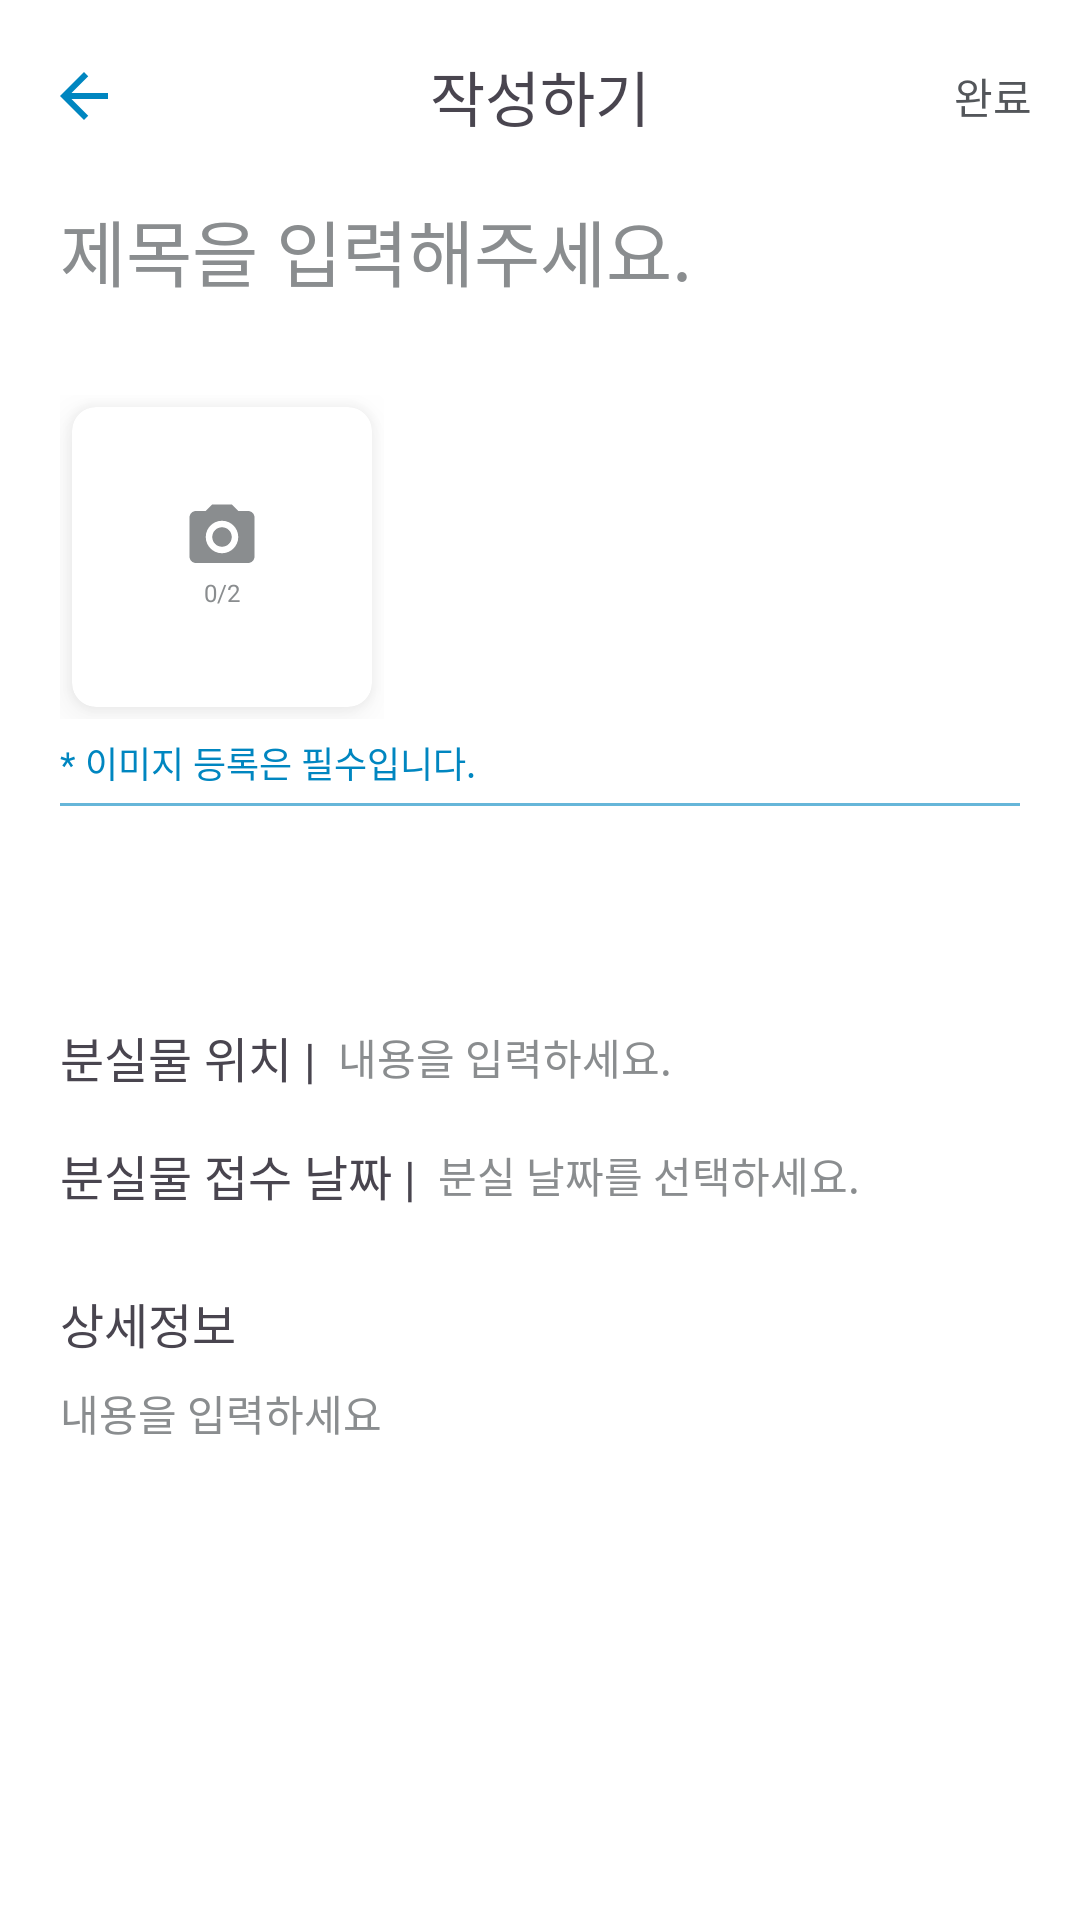

Icons on this 1080*1920 Android screen, each with the point to tap as point (x, y):
back: point (84, 96)
camera: point (222, 533)
